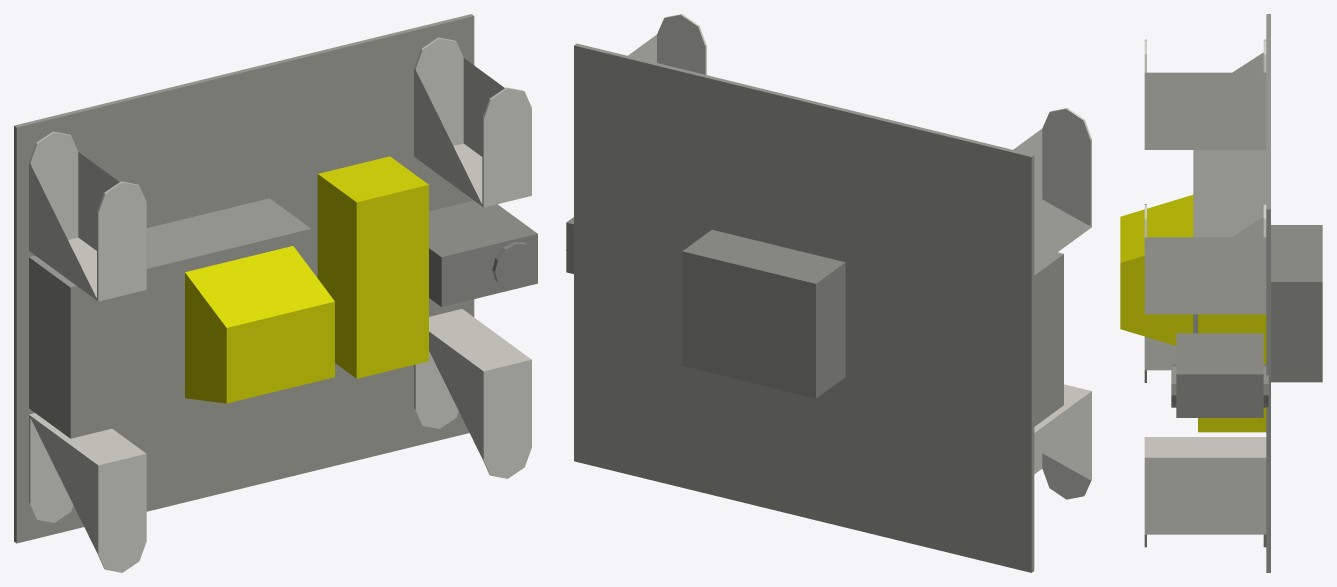
3 renders of one model, left to right at view 1: azimuth 30°, elevation 25°; view 2: azimuth 150°, elevation 25°; view 3: azimuth 270°, elevation 25°, orthographic. The views are drawn at different scales.
Size of the model in its own units: 0.195 by 0.165 by 0.0832.
